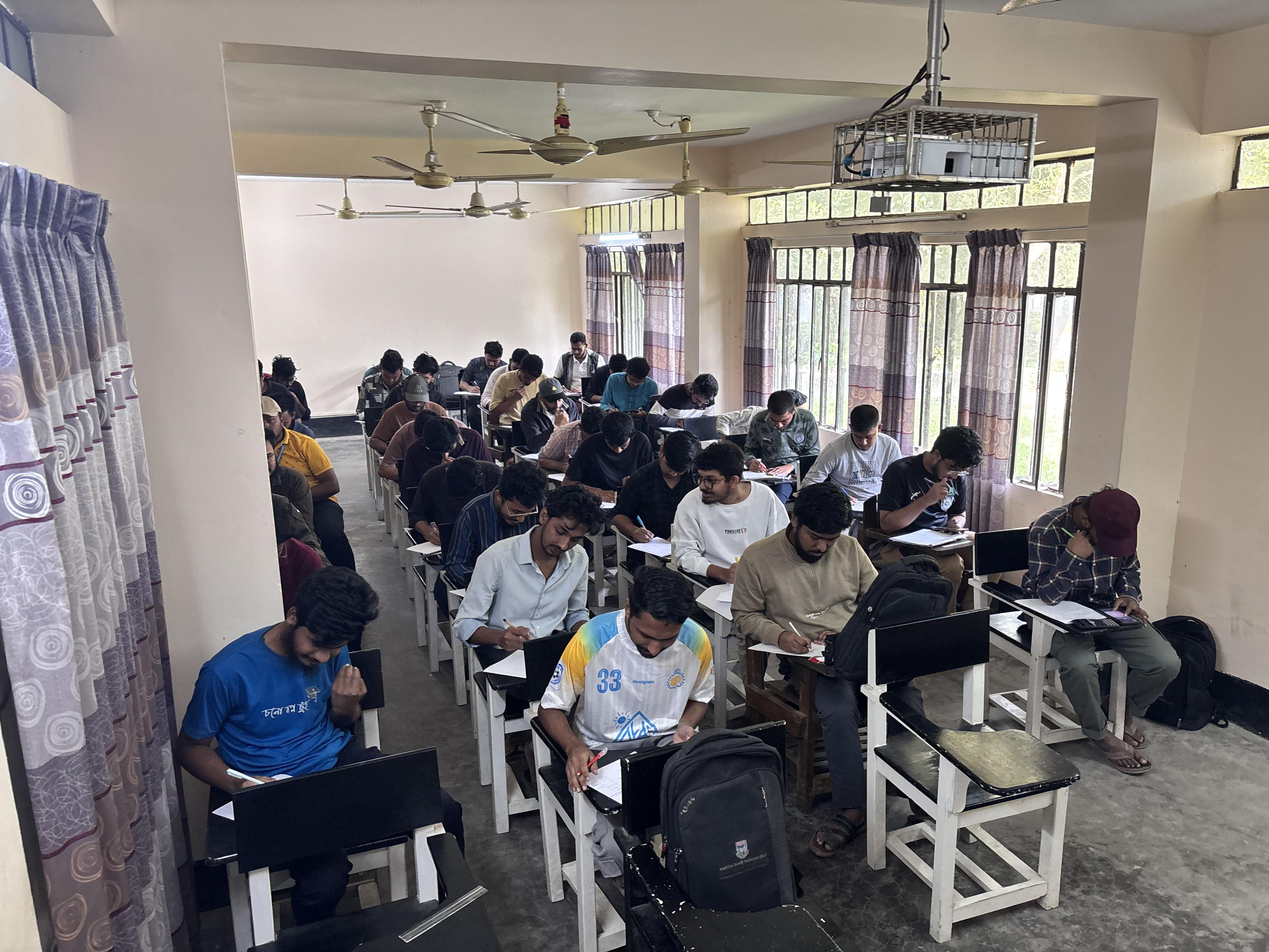no_cheating: (546, 586, 712, 830), (472, 515, 599, 678), (745, 487, 857, 643), (804, 405, 902, 523), (456, 466, 555, 575), (621, 434, 706, 542), (565, 417, 661, 493), (738, 401, 824, 484), (414, 462, 499, 523), (529, 379, 596, 456), (400, 426, 478, 492), (653, 375, 733, 435), (491, 355, 548, 430), (382, 373, 443, 434), (604, 364, 663, 425), (457, 336, 506, 388), (559, 331, 595, 393), (266, 395, 299, 459), (369, 354, 410, 399), (273, 349, 307, 390)
side_talking: (666, 451, 770, 573)
suspicious_moving: (203, 590, 429, 864)
using_phone: (1016, 479, 1157, 698), (882, 428, 986, 582)
